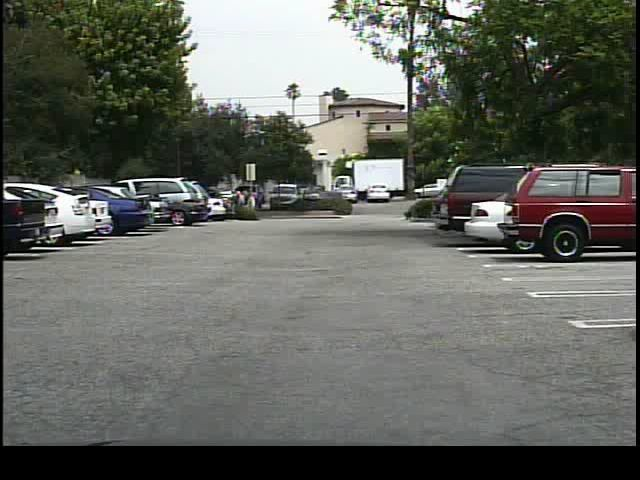person: (231, 186, 247, 216), (245, 188, 260, 216), (244, 185, 256, 217)
